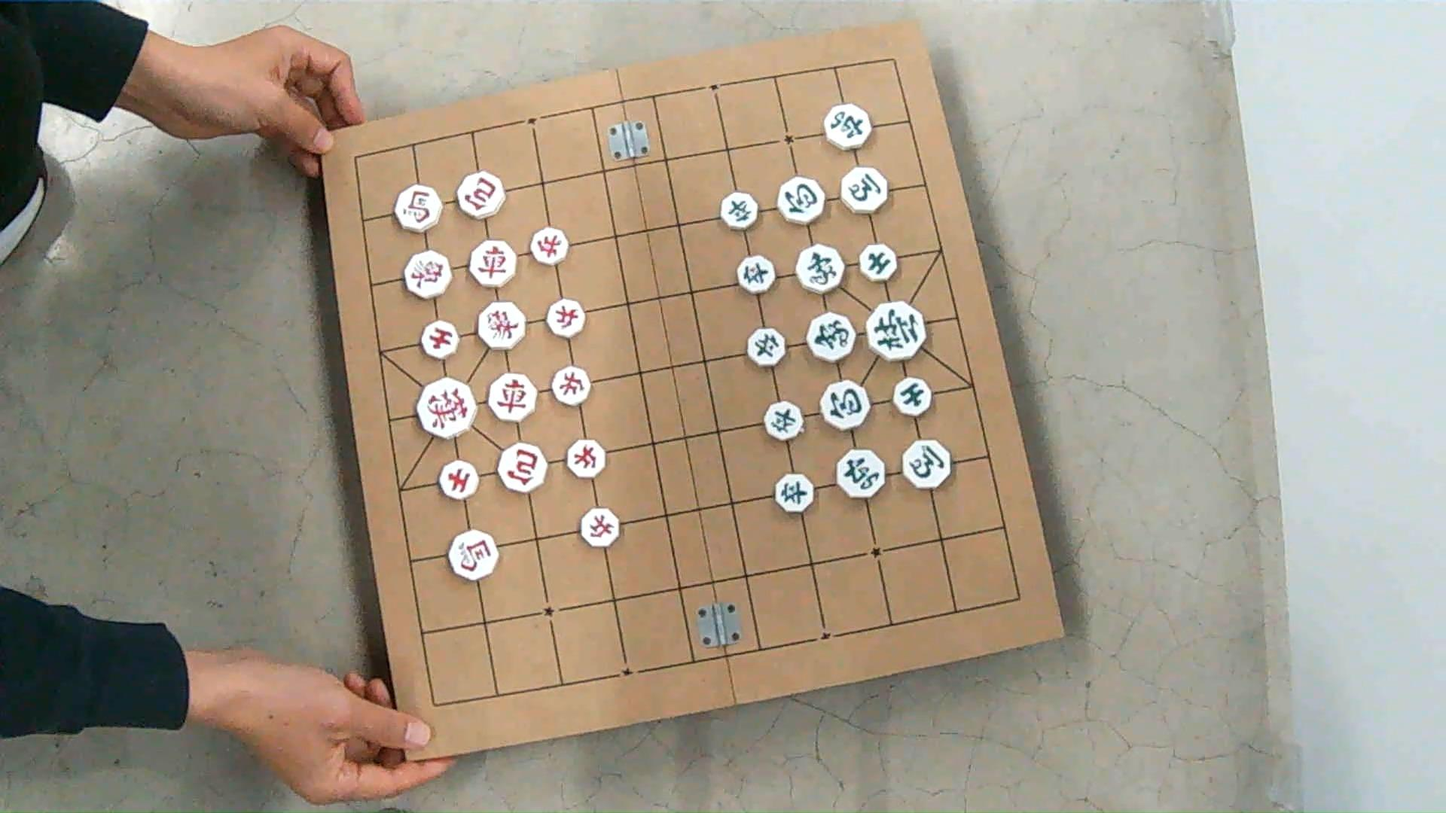cha_green: (836, 449, 884, 498), (825, 104, 871, 150)
cha_red: (488, 373, 537, 422), (469, 240, 516, 288)
jol_green: (774, 473, 813, 513), (764, 401, 802, 440), (720, 192, 758, 230), (748, 328, 785, 367), (737, 256, 774, 294)
jol_red: (580, 507, 620, 547), (566, 439, 606, 478), (552, 367, 590, 406), (531, 227, 569, 265), (547, 298, 584, 337)
ma_green: (903, 440, 951, 489), (841, 167, 887, 213)
ma_red: (449, 531, 499, 580), (395, 184, 441, 232)
po_green: (822, 380, 869, 430), (778, 176, 825, 224)
po_red: (498, 443, 547, 492), (457, 172, 505, 218)
sa_green: (894, 378, 931, 416), (860, 244, 896, 281)
sa_red: (440, 460, 477, 499), (422, 321, 459, 359)
sang_green: (808, 313, 856, 361), (797, 245, 844, 293)
sang_red: (479, 302, 525, 349), (404, 251, 450, 298)
wang_green: (867, 301, 926, 361)
wang_red: (418, 378, 476, 438)
